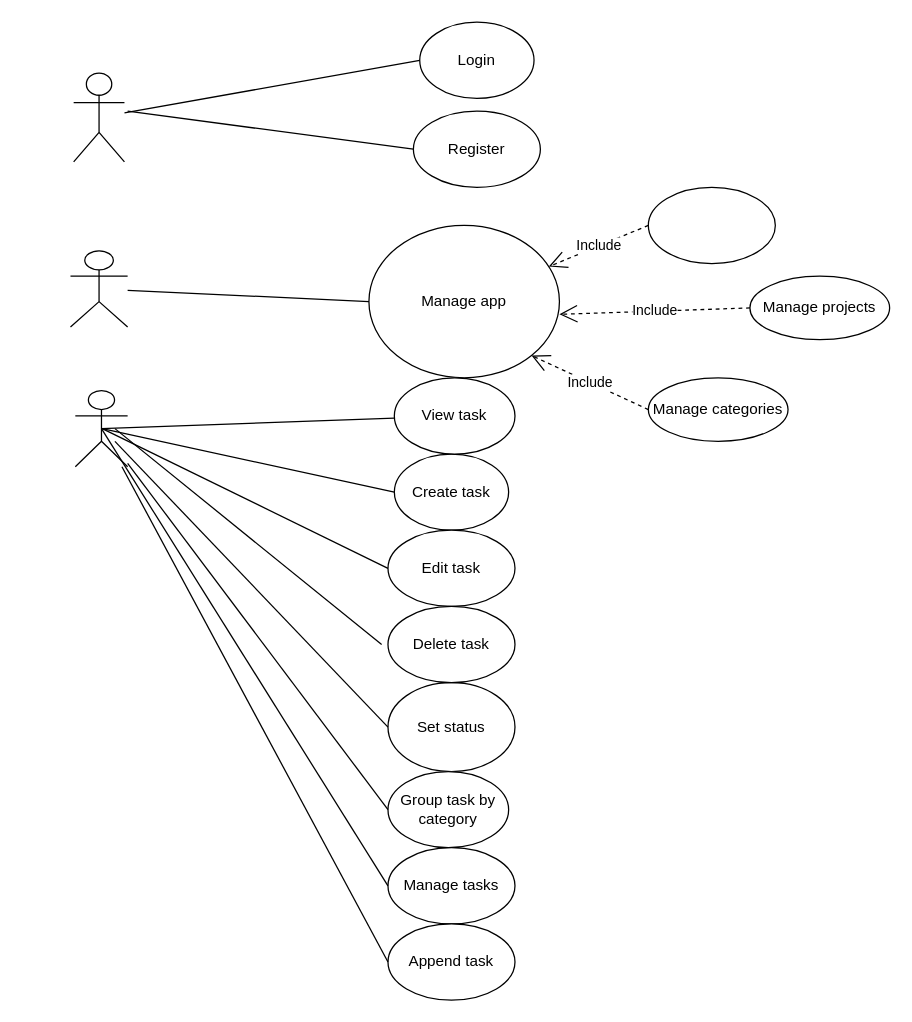
The diagram is 912 pixels wide and 1022 high, and some of its shapes have lost their labels. The shapes that lost their labels are listed below. From the top down, each one's box as (x1, y1, x2, y2) in pixels, then its label:
(72, 72, 124, 162): Utilizator neautentificat
(647, 186, 775, 264): Manage users
(69, 250, 128, 327): Administrator
(74, 389, 128, 467): Utilizator autentificat
